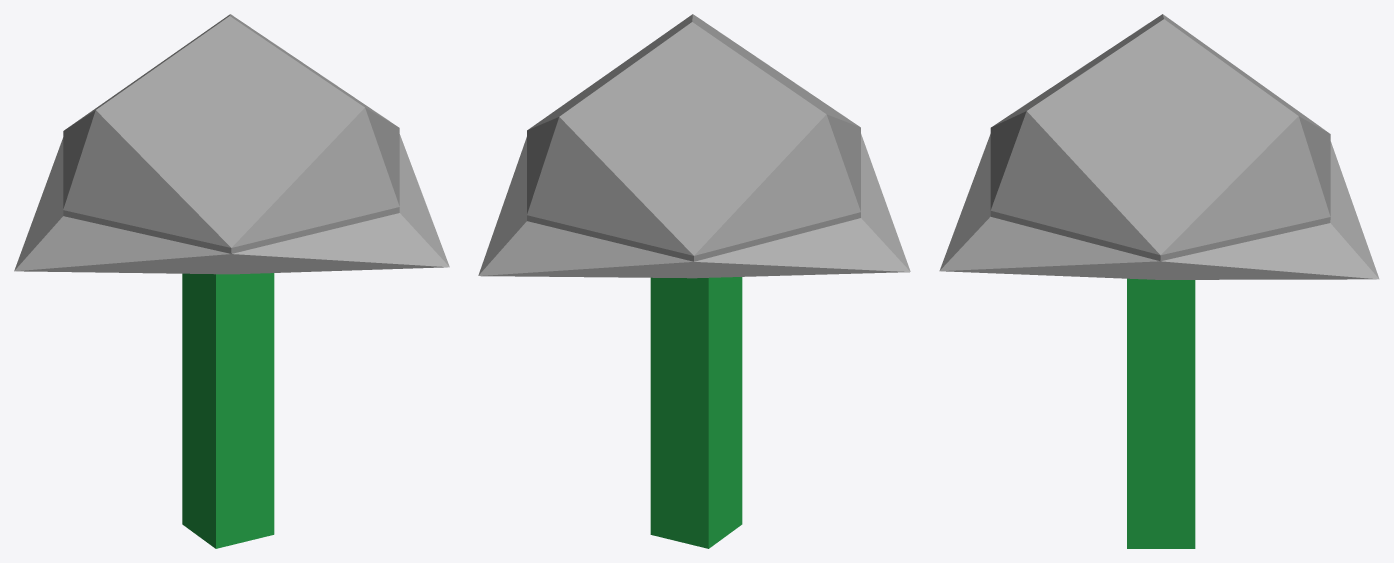
The model's file is Tree_lighter_v33.fbx.
3 renders of one model, left to right at view 1: azimuth 30°, elevation 25°; view 2: azimuth 150°, elevation 25°; view 3: azimuth 270°, elevation 25°, orthographic.
Parts seen in each view (by area): view 1: Tree_lighter_v33; view 2: Tree_lighter_v33; view 3: Tree_lighter_v33.
Boxes of the visible parts, left/top/right/bottom form: Tree_lighter_v33: left=14, top=14, right=449, bottom=548; Tree_lighter_v33: left=478, top=14, right=910, bottom=548; Tree_lighter_v33: left=939, top=14, right=1379, bottom=548.
Bounding box in the file's own units: 22.7 × 28.75 × 22.18.
Materials: 2 (1 with a texture image).
